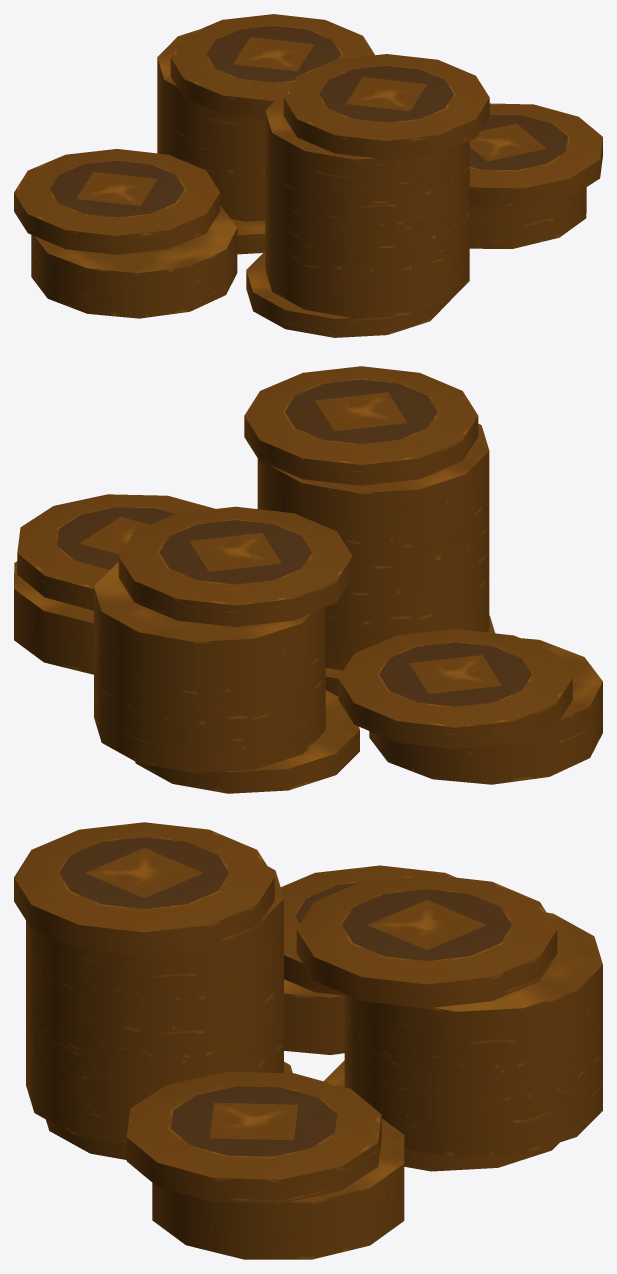
File: Coin_Pile.glb
3 views of the same model, one above another, from view 1: azimuth 30°, elevation 25°; view 2: azimuth 150°, elevation 25°; view 3: azimuth 270°, elevation 25° (orthographic). The views are drawn at different scales.
Parts seen in each view (by area): view 1: Coin_Pile; view 2: Coin_Pile; view 3: Coin_Pile.
Boxes of the visible parts, x1,y1,x2,y2 form: Coin_Pile: (14,14,602,337); Coin_Pile: (14,366,602,793); Coin_Pile: (14,822,602,1259).
Bounding box in the file's own units: 0.1975 × 0.0735 × 0.1542.
1 material, 1 textured.
